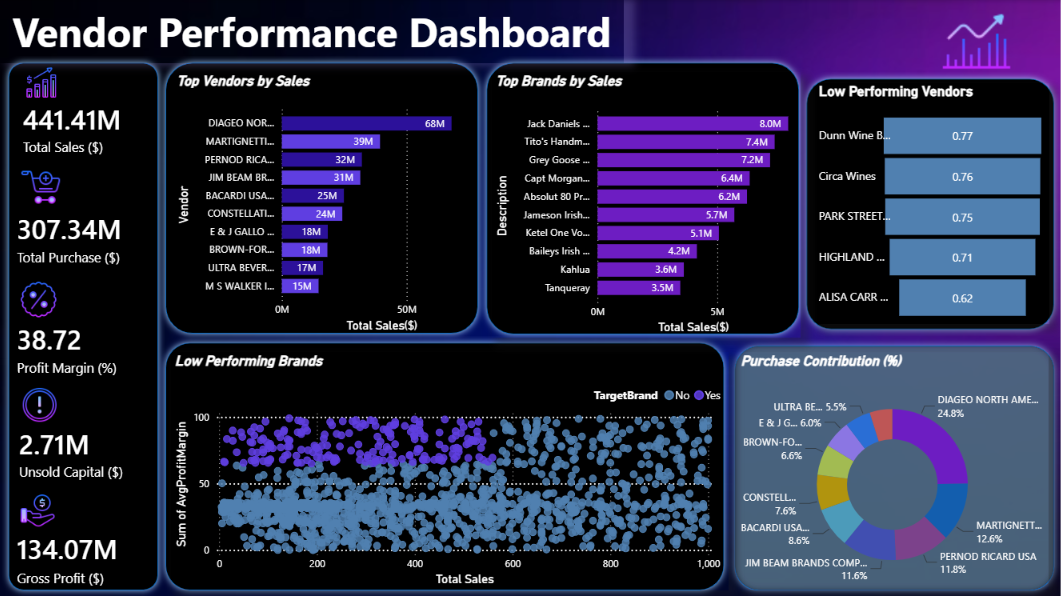

The page's visual inventory and layout, read from the dashboard file:
{"tool":"powerbi","page":{"name":"Page 1","canvas":[1280,720],"ordinal":0},"visuals":[{"type":"shape","box":[2.4,67.6,196.6,652.7],"z":0},{"type":"shape","box":[877.9,409,402.1,311.7],"z":1000},{"type":"shape","box":[191.8,405.4,690.1,314.9],"z":2000},{"type":"shape","box":[965.2,86.9,314.9,318.5],"z":3000},{"type":"shape","box":[579.1,67.6,393.3,343.8],"z":4000},{"type":"shape","box":[191.8,67.6,393.3,343],"z":5000},{"type":"cardVisual","fields":{"Data":["Sum(Clean_Vendor____Sales____Summary.TotalSalesDollars)"]},"box":[12.1,67.1,179.8,130.3],"z":6000},{"type":"cardVisual","fields":{"Data":["Sum(Clean_Vendor____Sales____Summary.TotalPurchaseDollar)"]},"box":[15.7,192.6,179.8,131.5],"z":7000},{"type":"cardVisual","fields":{"Data":["Sum(Clean_Vendor____Sales____Summary.GrossProfit)"]},"box":[15.7,583.7,183.4,130.3],"z":8000},{"type":"cardVisual","fields":{"Data":["Avg(Clean_Vendor____Sales____Summary.ProfitMargin)"]},"box":[15.7,328.9,179.8,130.3],"z":9000},{"type":"cardVisual","fields":{"Data":["Sum(Clean_Vendor____Sales____Summary.UnsoldCapital)"]},"box":[18.1,455.6,178.6,130.3],"z":10000},{"type":"donutChart","title":"Purchase Contribution (%)","fields":{"Category":["PurchaseContribution.vendorname"],"Y":["Sum(PurchaseContribution.PurchaseContribution%)"]},"box":[889,424.3,375.7,288],"z":11000},{"type":"barChart","title":"Top Vendors by Sales","fields":{"Category":["Clean_Vendor____Sales____Summary.vendorname"],"Y":["Sum(Clean_Vendor____Sales____Summary.TotalSalesDollars)"]},"box":[208.7,86.9,389.7,318.5],"z":12000},{"type":"barChart","title":"Top Brands by Sales","fields":{"Category":["Clean_Vendor____Sales____Summary.Description"],"Y":["Sum(Clean_Vendor____Sales____Summary.TotalSalesDollars)"]},"box":[593.6,86.9,372.8,320.9],"z":13000},{"type":"funnel","title":"Low Performing Vendors","fields":{"Category":["LowTurnoverVendors.vendorname"],"Y":["Avg(LowTurnoverVendors.AvgStockTurnover)"]},"box":[983.2,100.1,283.5,290.8],"z":14000},{"type":"scatterChart","title":"Low Performing Brands","fields":{"Category":["BrandPerformance.Description"],"X":["Sum(BrandPerformance.TotalSales)"],"Y":["Sum(BrandPerformance.AvgProfitMargin)"],"Series":["BrandPerformance.TargetBrand"]},"box":[206.3,424.7,673.2,287.1],"z":15000},{"type":"textbox","box":[0,0,752.8,76],"z":16000},{"type":"image","box":[1124.4,0,108.6,100.1],"z":18000}]}

Visuals, with their boxes in screenshot pixels (x1, y1, x2, y2), scaled from the page's 1280x720 canvas onto the 1061x596 screenshot:
shape: x1=2, y1=56, x2=165, y2=595
shape: x1=728, y1=339, x2=1060, y2=595
shape: x1=159, y1=336, x2=731, y2=595
shape: x1=800, y1=72, x2=1060, y2=336
shape: x1=480, y1=56, x2=806, y2=341
shape: x1=159, y1=56, x2=485, y2=340
cardVisual - Sum(Clean_Vendor____Sales____Summary.TotalSalesDollars): x1=10, y1=56, x2=159, y2=163
cardVisual - Sum(Clean_Vendor____Sales____Summary.TotalPurchaseDollar): x1=13, y1=159, x2=162, y2=268
cardVisual - Sum(Clean_Vendor____Sales____Summary.GrossProfit): x1=13, y1=483, x2=165, y2=591
cardVisual - Avg(Clean_Vendor____Sales____Summary.ProfitMargin): x1=13, y1=272, x2=162, y2=380
cardVisual - Sum(Clean_Vendor____Sales____Summary.UnsoldCapital): x1=15, y1=377, x2=163, y2=485
"Purchase Contribution (%)" donutChart: x1=737, y1=351, x2=1048, y2=590
"Top Vendors by Sales" barChart: x1=173, y1=72, x2=496, y2=336
"Top Brands by Sales" barChart: x1=492, y1=72, x2=801, y2=338
"Low Performing Vendors" funnel: x1=815, y1=83, x2=1050, y2=324
"Low Performing Brands" scatterChart: x1=171, y1=352, x2=729, y2=589
textbox: x1=0, y1=0, x2=624, y2=63
image: x1=932, y1=0, x2=1022, y2=83
